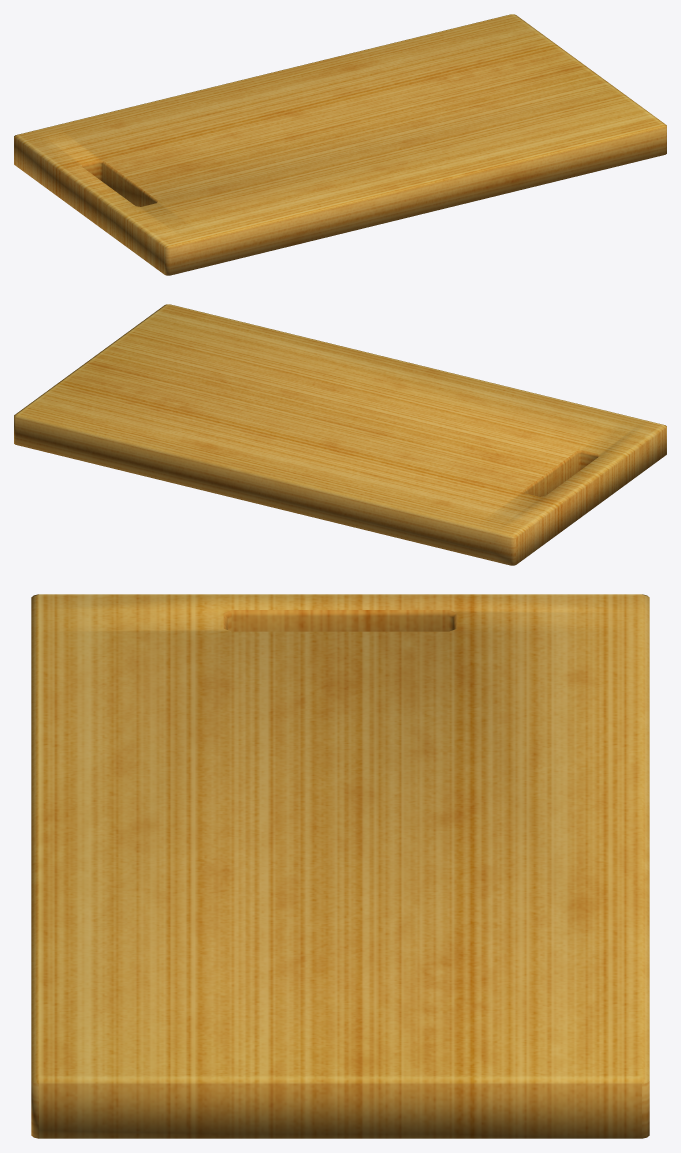
The model's file is cuttingBoard.gltf.
3 renders of one model, top to bottom at view 1: azimuth 30°, elevation 25°; view 2: azimuth 150°, elevation 25°; view 3: azimuth 270°, elevation 25°, orthographic. The views are drawn at different scales.
Visible parts, largest first — view 1: board; view 2: board; view 3: board.
Boxes of the visible parts, x1,y1,x2,y2 form: board: [14, 14, 666, 275]; board: [14, 304, 666, 565]; board: [31, 594, 649, 1138].
Bounding box in the file's own units: 0.45 × 0.026 × 0.24.
Materials: 1 (1 with a texture image).
